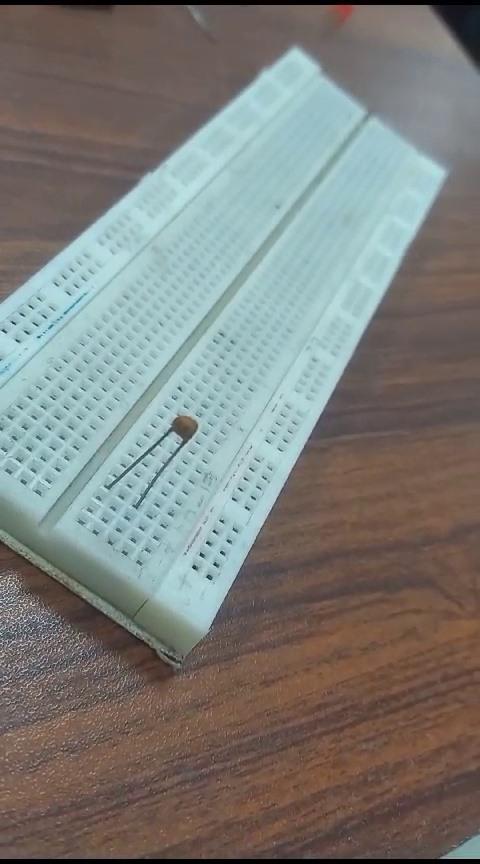ceramic capacitor: (96, 392, 198, 501)
